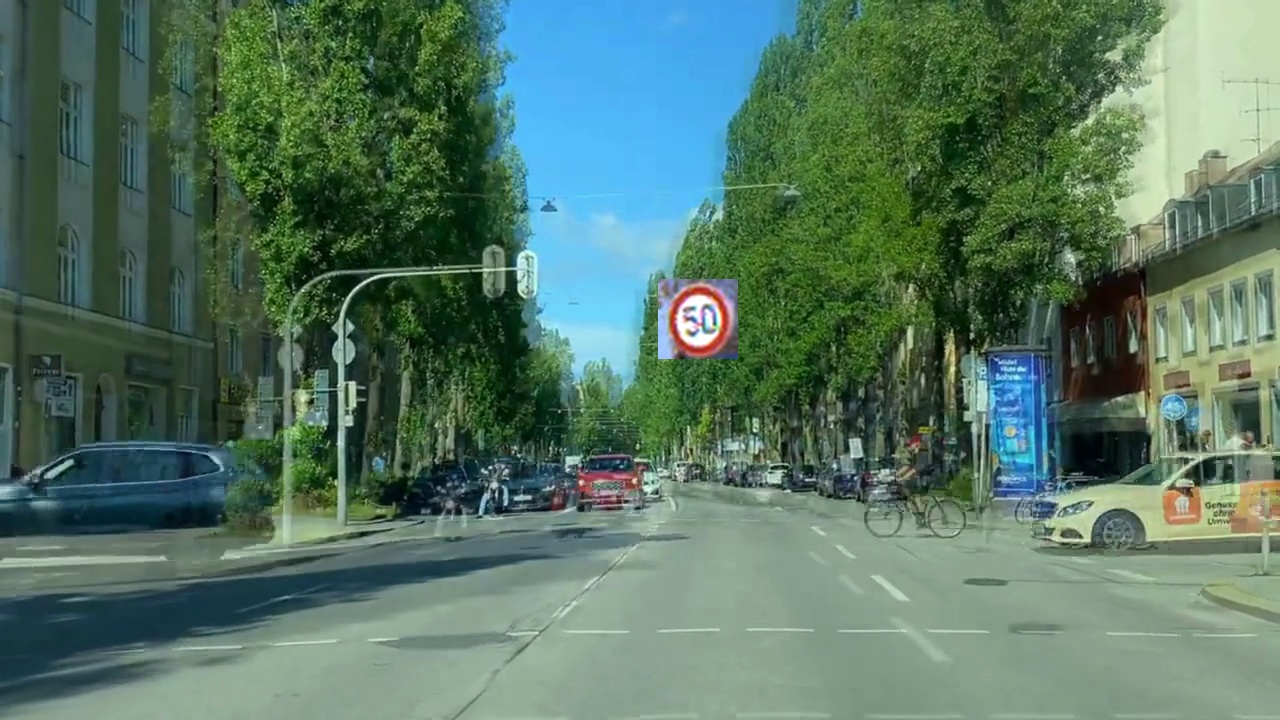Speed 50: (658, 279, 738, 359)
